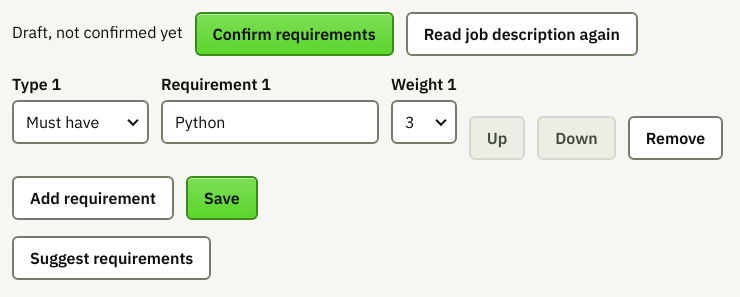
Scenario: requirement editor: the AI draft › confirms the draft
Expected: the field showing "Python" is shown, x1=161 y1=100 x2=379 y2=144
Click the button "Confirm requirements": {"x": 294, "y": 34} x1=194 y1=12 x2=394 y2=56
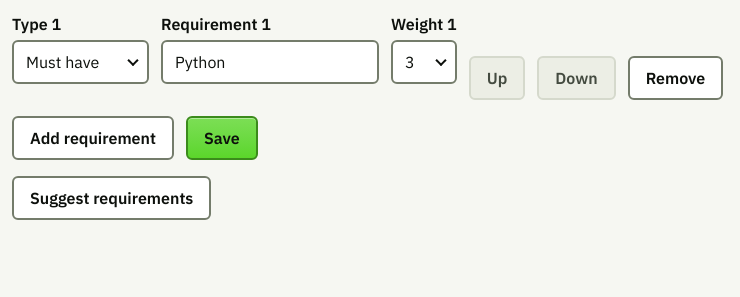
Now the text "Draft, not confirmed yet" is gone
